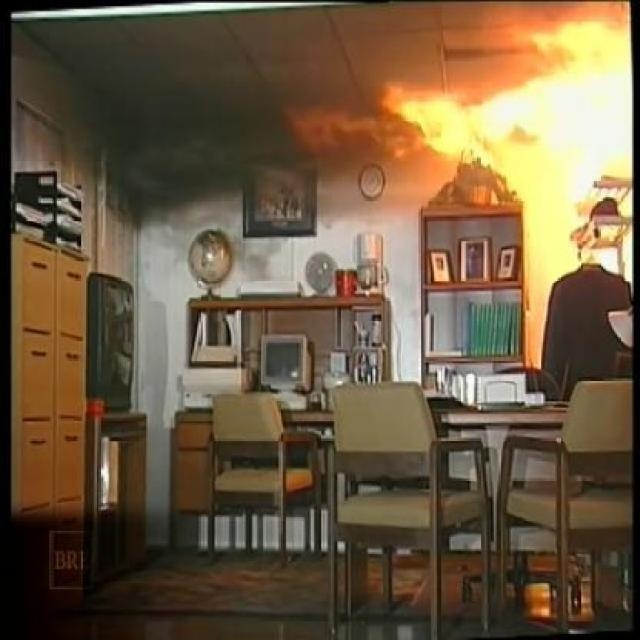fire: (360, 4, 632, 234)
